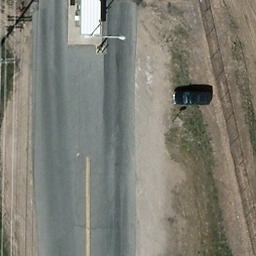car: (172, 91, 210, 107)
